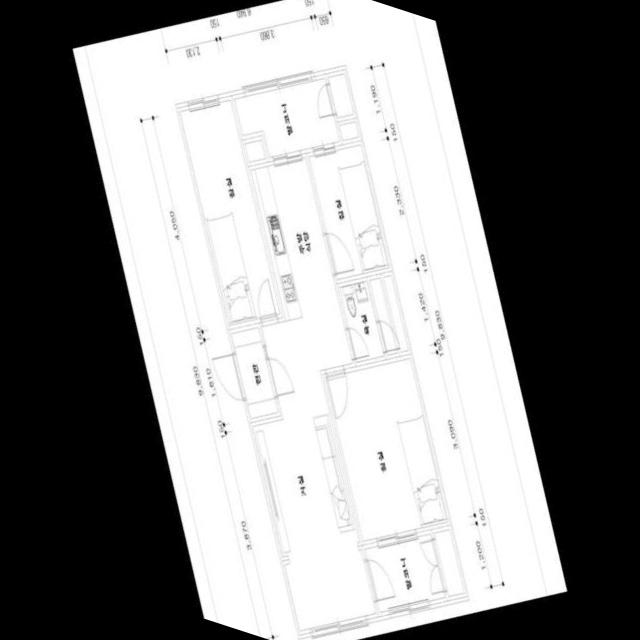background: (73, 0, 567, 640)
space_balconi: (234, 78, 339, 156), (365, 534, 445, 611)
space_bedroom: (180, 100, 280, 325), (326, 358, 447, 540), (309, 144, 389, 279)
space_front: (232, 327, 278, 418)
space_kitchen: (251, 157, 340, 321)
space_living_room: (253, 307, 376, 630)
space_other: (434, 529, 464, 596), (384, 275, 408, 351), (329, 73, 353, 117), (245, 139, 266, 161), (340, 121, 359, 139)
space_toilet: (339, 281, 384, 362), (370, 278, 397, 355)
